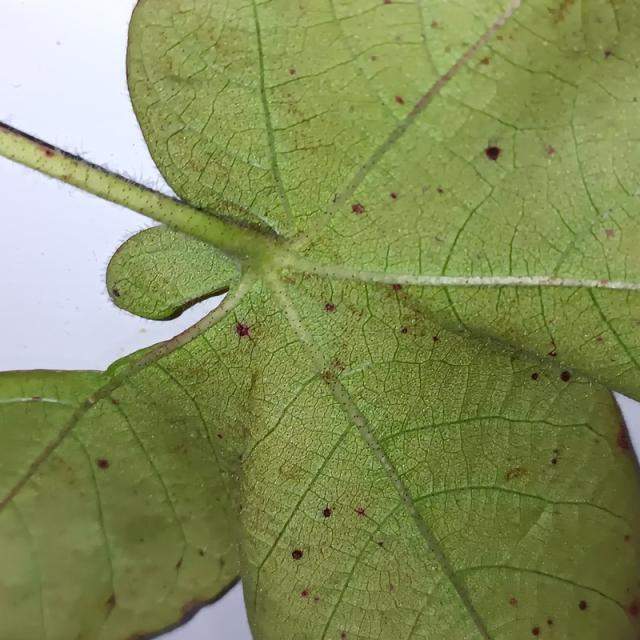Bacterial_Blight: (390, 284, 411, 334), (476, 138, 508, 165), (162, 73, 196, 93), (547, 1, 573, 24), (232, 317, 256, 341), (321, 358, 346, 381), (353, 506, 379, 526), (277, 464, 300, 481), (615, 424, 630, 449), (420, 184, 445, 198), (504, 467, 527, 482), (112, 279, 129, 297), (300, 589, 319, 605), (38, 144, 56, 158), (280, 271, 298, 285), (320, 505, 334, 519), (322, 369, 335, 384), (96, 457, 110, 470), (350, 203, 365, 215), (546, 340, 557, 356), (627, 602, 638, 617), (105, 594, 116, 608), (291, 548, 303, 560), (354, 506, 367, 517), (560, 371, 571, 382), (546, 145, 556, 156), (479, 57, 490, 66), (176, 556, 183, 569), (325, 303, 335, 312), (430, 20, 440, 29), (395, 95, 404, 105), (531, 626, 540, 636), (530, 372, 539, 381), (604, 50, 613, 58), (113, 288, 121, 297), (422, 185, 430, 193), (509, 598, 517, 606), (393, 284, 402, 291), (435, 236, 444, 243), (31, 397, 43, 402), (112, 398, 120, 405), (546, 618, 553, 626), (198, 548, 205, 556), (600, 279, 608, 286), (390, 192, 397, 200), (624, 534, 631, 542), (388, 583, 394, 592), (551, 458, 558, 465), (432, 335, 439, 342), (289, 68, 296, 75), (301, 590, 308, 597), (377, 541, 384, 547), (596, 336, 603, 342), (553, 448, 559, 454), (217, 433, 223, 439), (371, 55, 377, 61)
Cotton: (0, 0, 639, 639)
